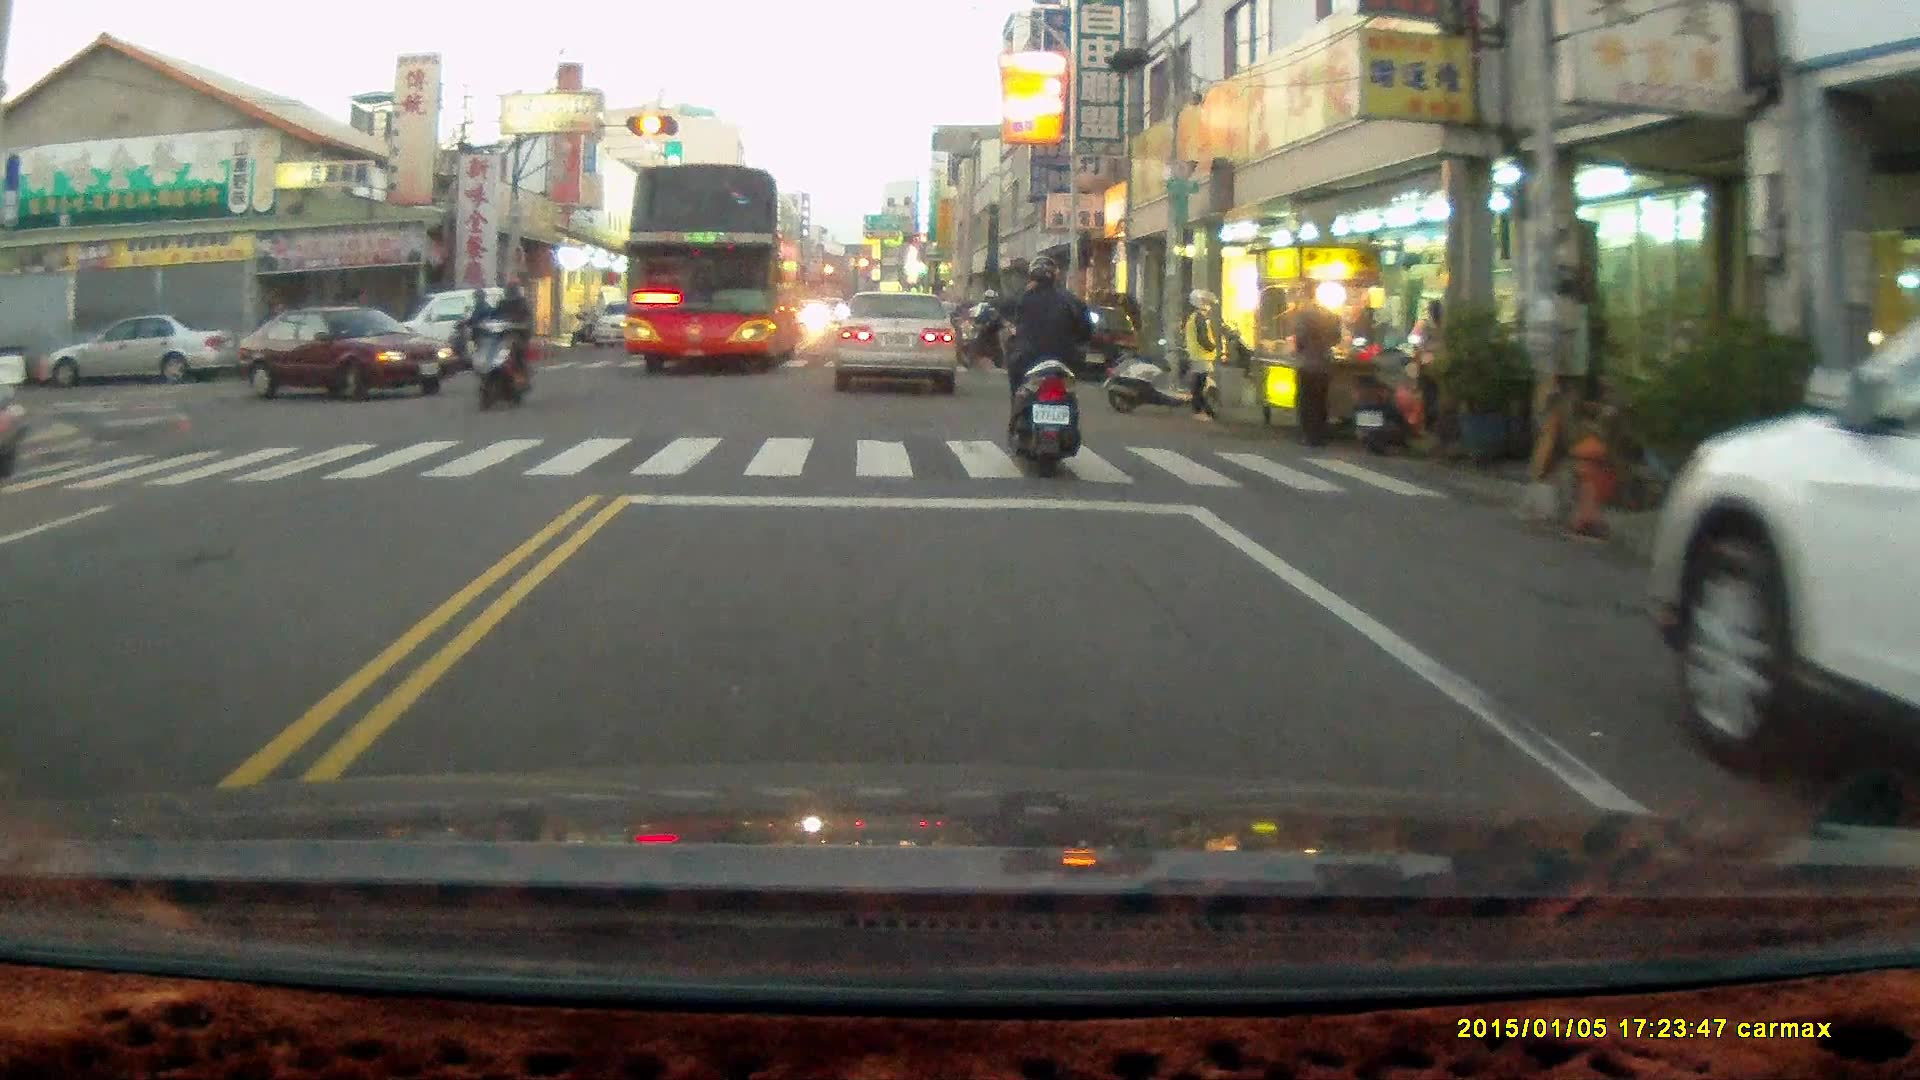pedestrian: (1289, 272, 1340, 445), (1178, 280, 1219, 419), (1408, 299, 1447, 438)
rider: (993, 243, 1101, 472), (471, 273, 532, 411), (955, 284, 1016, 367), (444, 287, 501, 371)
vehicle: (1641, 305, 1920, 827), (625, 165, 800, 378), (238, 302, 451, 398), (35, 311, 219, 389), (833, 290, 963, 395), (1045, 298, 1145, 382), (595, 296, 666, 350)
